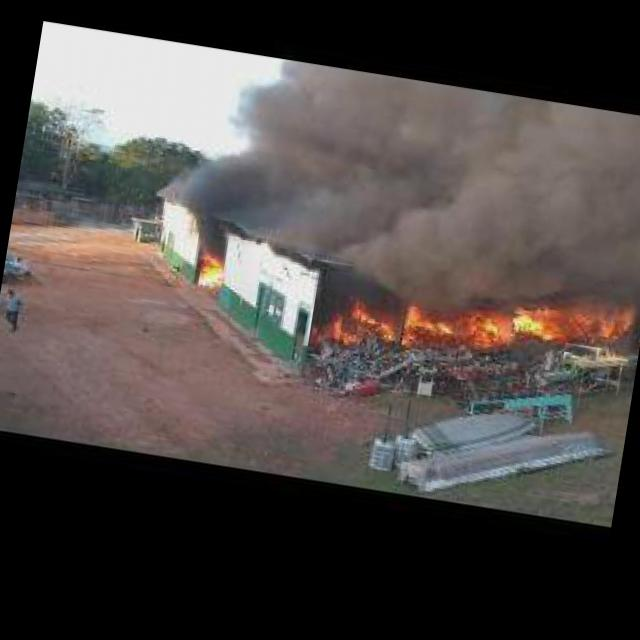fire: (511, 282, 638, 366), (398, 294, 510, 368), (313, 286, 402, 358), (194, 250, 228, 290)
smoke: (152, 41, 640, 321)
